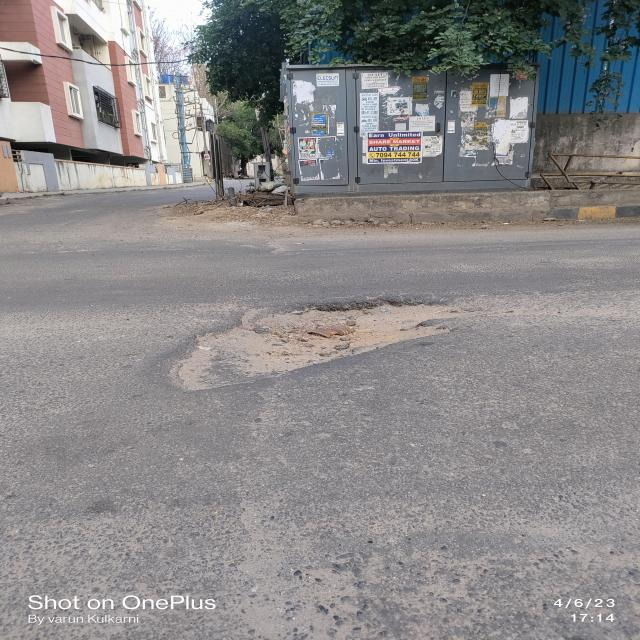potholes: (147, 296, 490, 398)
